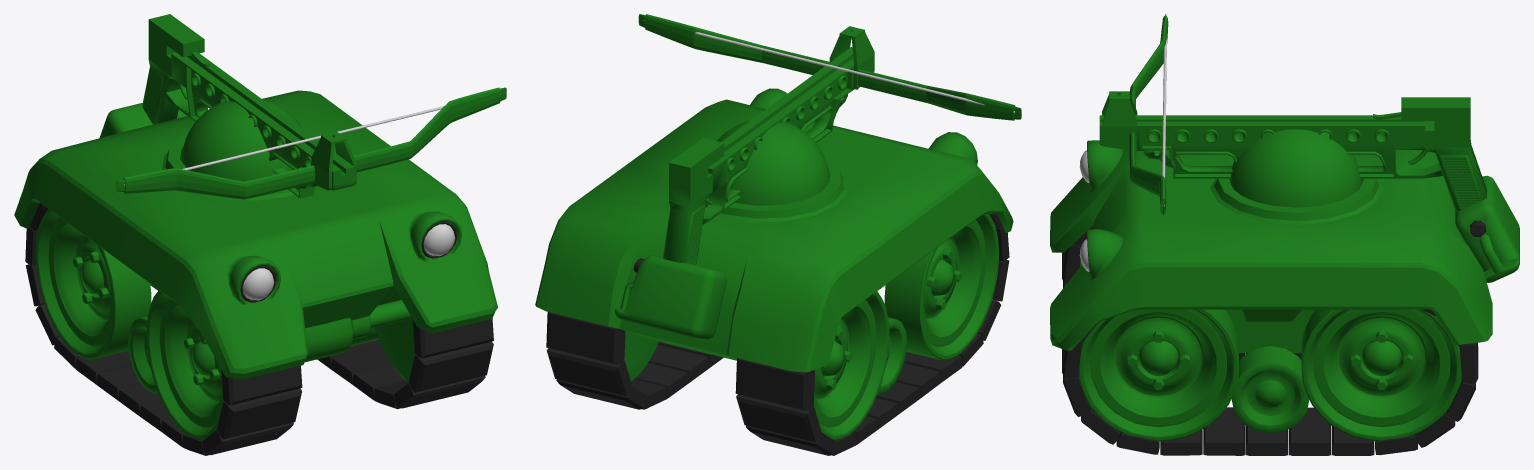
The model's file is BowTank.FBX.
3 renders of one model, left to right at view 1: azimuth 30°, elevation 25°; view 2: azimuth 150°, elevation 25°; view 3: azimuth 270°, elevation 25°, orthographic.
Visible parts, largest first — view 1: TankChassis, TankTracksRight, CrossBow, TankTracksLeft, SphereAxis; view 2: TankChassis, TankTracksRight, CrossBow, TankTracksLeft, SphereAxis; view 3: TankChassis, TankTracksLeft, CrossBow, SphereAxis, TankTracksRight.
Boxes of the visible parts, left/top/right/bottom form: TankChassis: left=14, top=90, right=497, bottom=393; TankTracksRight: left=25, top=203, right=302, bottom=455; CrossBow: left=116, top=14, right=506, bottom=199; TankTracksLeft: left=317, top=286, right=493, bottom=408; SphereAxis: left=181, top=99, right=302, bottom=181; TankChassis: left=535, top=88, right=1013, bottom=394; TankTracksRight: left=735, top=214, right=1009, bottom=455; CrossBow: left=638, top=14, right=1021, bottom=264; TankTracksLeft: left=546, top=312, right=723, bottom=409; SphereAxis: left=717, top=121, right=829, bottom=205; TankChassis: left=1050, top=132, right=1519, bottom=432; TankTracksLeft: left=1062, top=309, right=1478, bottom=455; CrossBow: left=1099, top=14, right=1486, bottom=214; SphereAxis: left=1229, top=129, right=1361, bottom=207; TankTracksRight: left=1062, top=226, right=1301, bottom=360.
Bounding box in the file's own units: 577 × 423 × 601.
